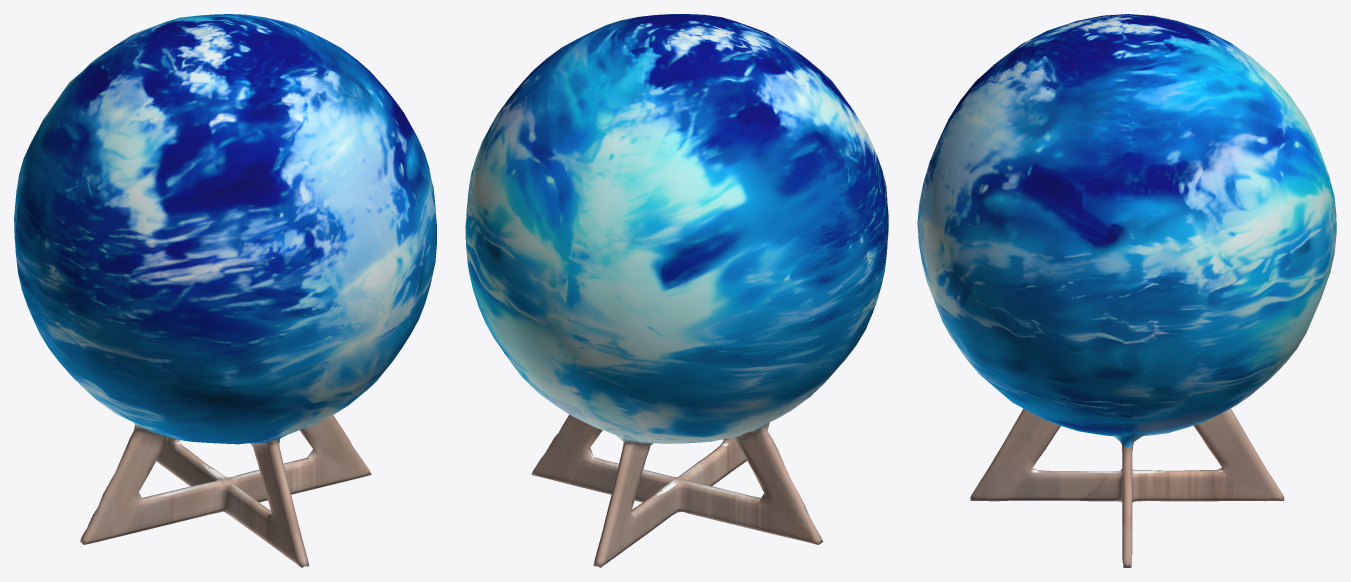
Rendered from kula led.glb.
3 renders of one model, left to right at view 1: azimuth 30°, elevation 25°; view 2: azimuth 150°, elevation 25°; view 3: azimuth 270°, elevation 25°, orthographic. The views are drawn at different scales.
Visible parts, largest first — view 1: model; view 2: model; view 3: model.
Boxes of the visible parts, bbox=[...] form: model: bbox=[14, 14, 436, 567]; model: bbox=[465, 14, 888, 567]; model: bbox=[917, 14, 1336, 567].
Bounding box in the file's own units: 1.54 × 1.9 × 1.54.
Materials: 1 (1 with a texture image).
